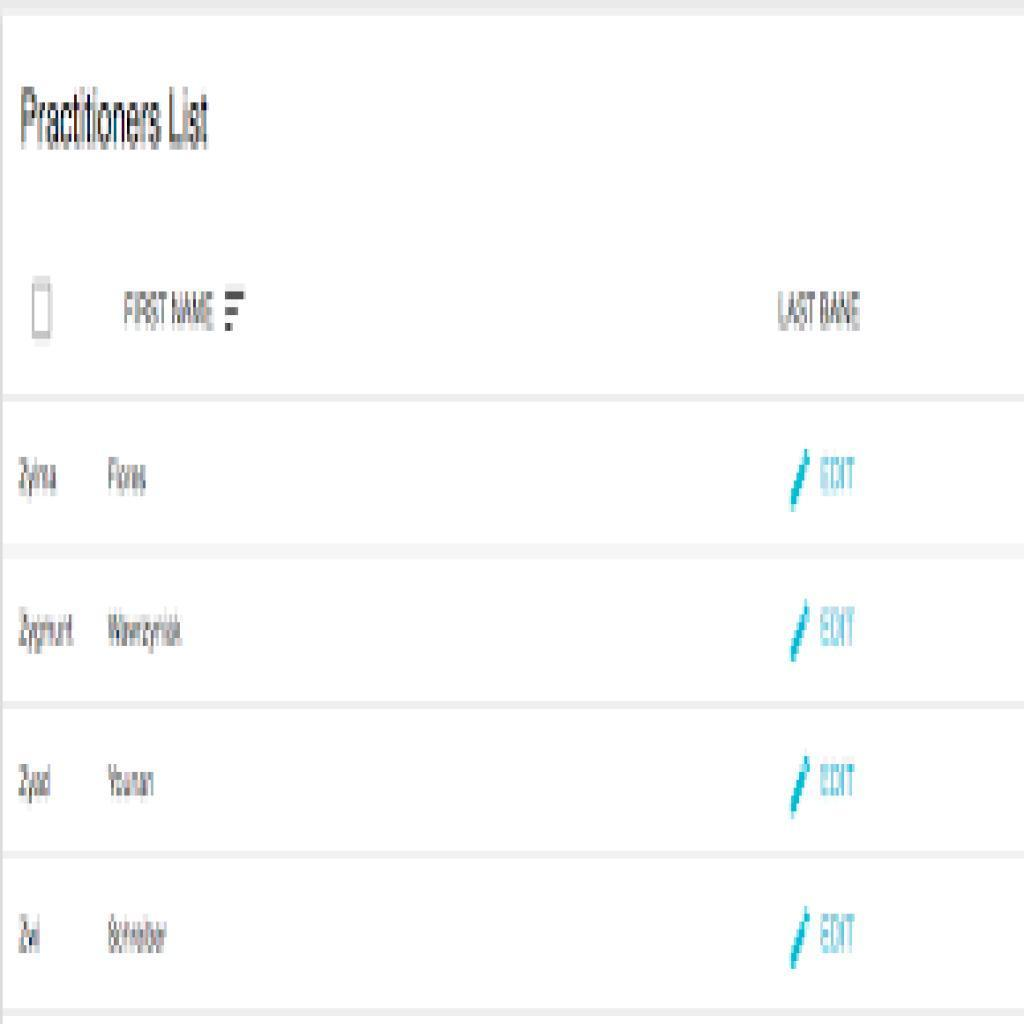checkbox: (31, 280, 54, 339)
icon: (784, 755, 821, 826), (785, 900, 815, 976), (782, 445, 816, 512), (787, 598, 820, 666), (220, 285, 254, 336)
